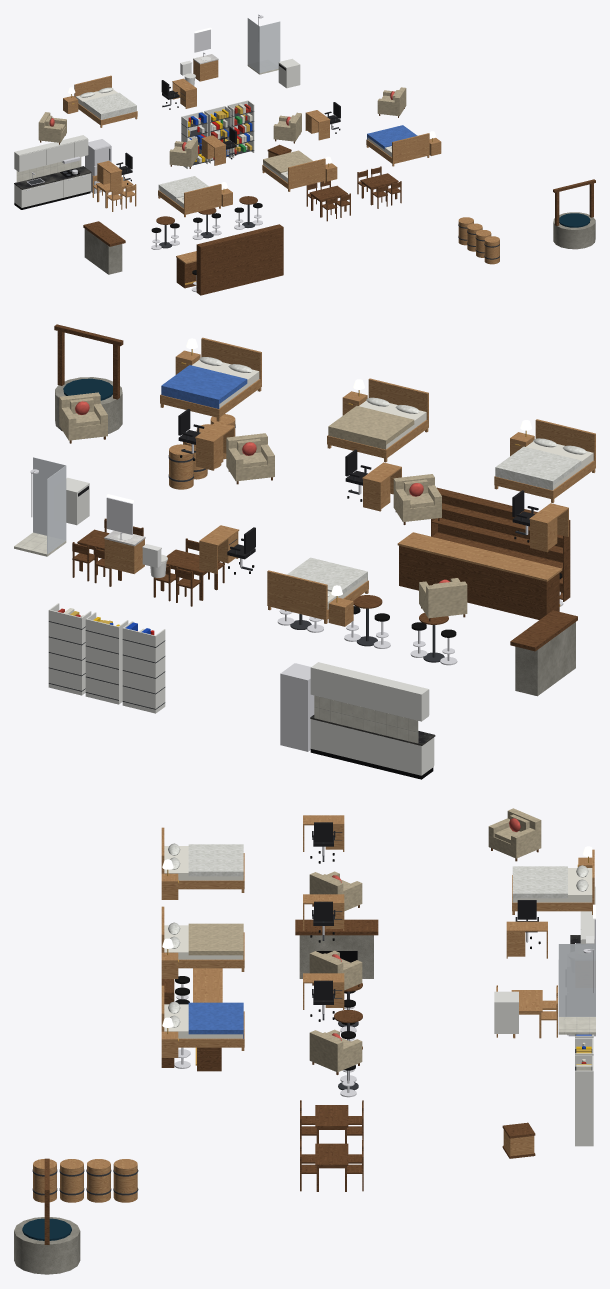
The model's file is i_medieval_tavern.gltf.
3 renders of one model, top to bottom at view 1: azimuth 30°, elevation 25°; view 2: azimuth 150°, elevation 25°; view 3: azimuth 270°, elevation 25°, orthographic. The views are drawn at different scales.
Parts seen in each view (by area): view 1: I_medieval_tavern; view 2: I_medieval_tavern; view 3: I_medieval_tavern.
Part boxes in pixels (<box>): I_medieval_tavern: <box>14,14,595,295</box>; I_medieval_tavern: <box>14,324,595,779</box>; I_medieval_tavern: <box>14,808,595,1274</box>.
Bounding box in the file's own units: 17.65 × 5.45 × 14.06.
Materials: 32 (11 with a texture image).
